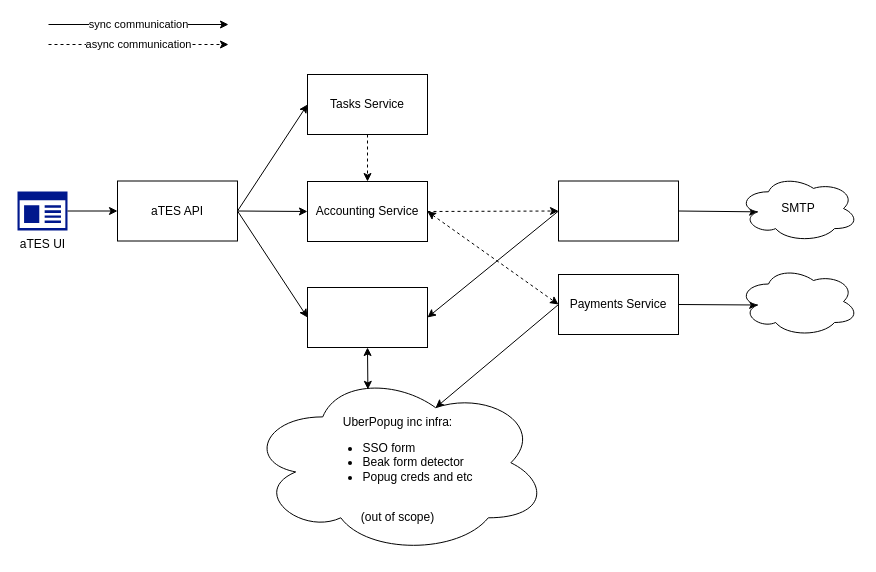
Some shapes in this 876 by 572 pixel diagram are drawn without their labels. Each missing label, with the box of its shape:
3th party Payment Services: (738, 266, 858, 336)
Notifications service: (558, 180, 678, 241)
Profile & authorization Service: (306, 286, 428, 348)
